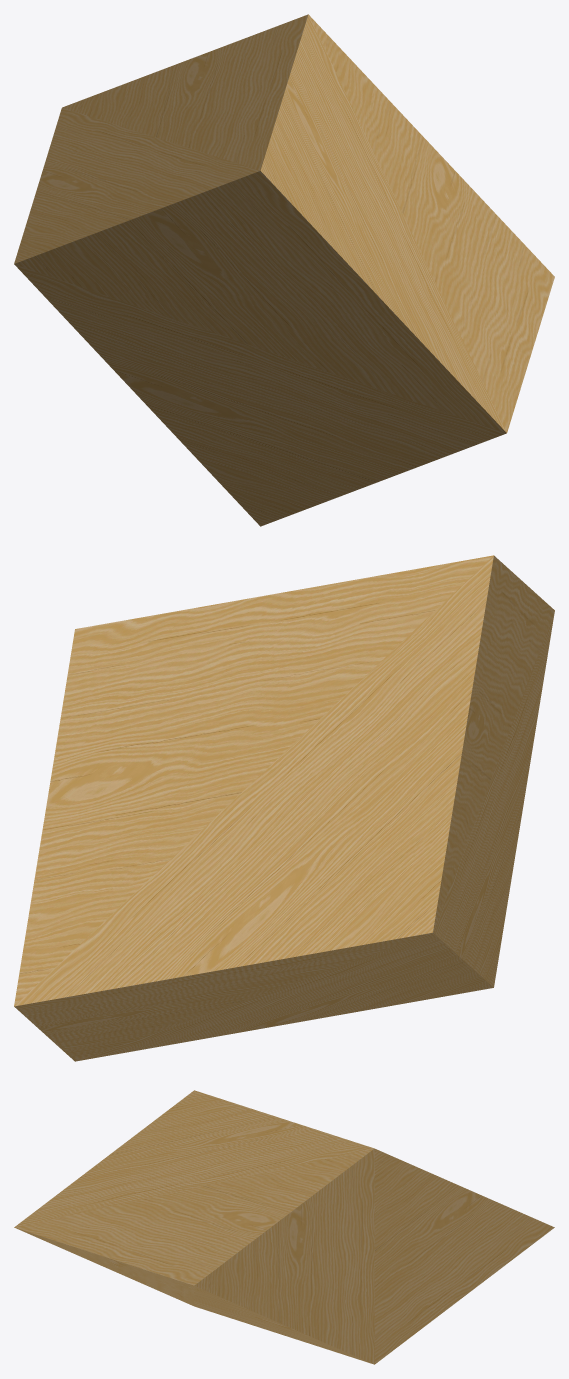
File: AcuteGoldenRhombohedron.glb
3 views of the same model, one above another, from view 1: azimuth 30°, elevation 25°; view 2: azimuth 150°, elevation 25°; view 3: azimuth 270°, elevation 25° (orthographic). The views are drawn at different scales.
Visible parts, largest first — view 1: 000_model; view 2: 000_model; view 3: 000_model.
Boxes of the visible parts, box(x1,y1,x2,y2) form: 000_model: box(14, 14, 554, 526); 000_model: box(14, 555, 554, 1061); 000_model: box(14, 1090, 554, 1364).
Bounding box in the file's own units: 4.86 × 4.21 × 9.54.
Materials: 1 (1 with a texture image).
